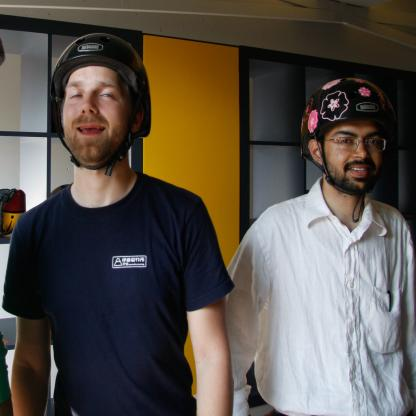Helmet: (50, 30, 154, 178), (300, 73, 386, 209)
